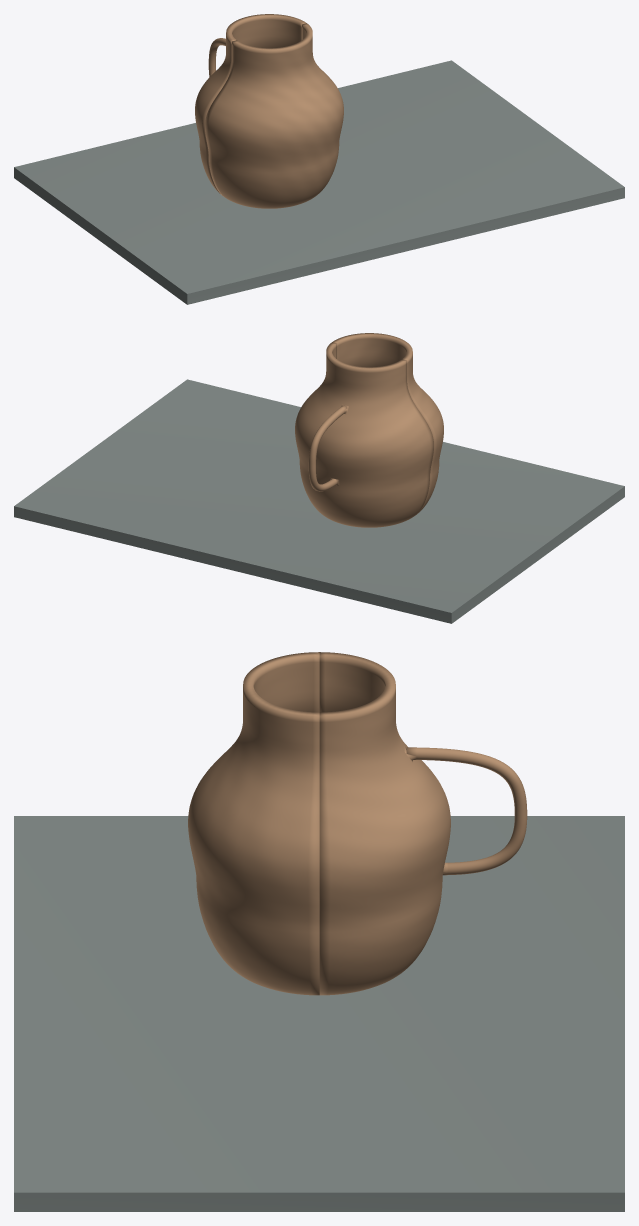
File: samaria-jar.glb
3 views of the same model, one above another, from view 1: azimuth 30°, elevation 25°; view 2: azimuth 150°, elevation 25°; view 3: azimuth 270°, elevation 25° (orthographic). The views are drawn at different scales.
Parts seen in each view (by area): view 1: samaria-jar-samaria-modern-neutral-display, samaria-jar-samaria-original-matte-water-jar, samaria-jar-samaria-original-matte-water-jar.001; view 2: samaria-jar-samaria-modern-neutral-display, samaria-jar-samaria-original-matte-water-jar.001, samaria-jar-samaria-original-matte-water-jar; view 3: samaria-jar-samaria-modern-neutral-display, samaria-jar-samaria-original-matte-water-jar.001, samaria-jar-samaria-original-matte-water-jar.
Part boxes in pixels (box(x1,y1,x2,y2)): samaria-jar-samaria-modern-neutral-display: box(14, 60, 624, 304); samaria-jar-samaria-original-matte-water-jar: box(205, 23, 343, 208); samaria-jar-samaria-original-matte-water-jar.001: box(195, 14, 306, 193); samaria-jar-samaria-modern-neutral-display: box(14, 379, 624, 623); samaria-jar-samaria-original-matte-water-jar.001: box(295, 342, 433, 527); samaria-jar-samaria-original-matte-water-jar: box(332, 333, 443, 512); samaria-jar-samaria-modern-neutral-display: box(14, 816, 624, 1211); samaria-jar-samaria-original-matte-water-jar.001: box(319, 652, 527, 995); samaria-jar-samaria-original-matte-water-jar: box(188, 652, 319, 995).
Size of the model in its own units: 1.05 by 0.385 by 0.72.
